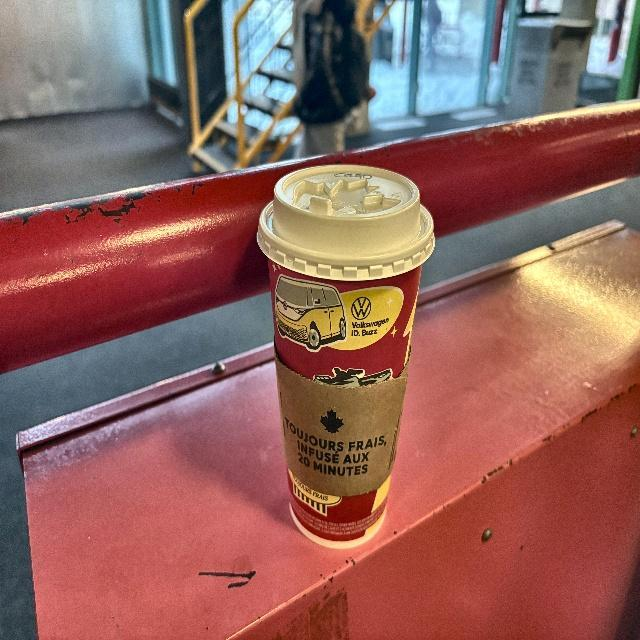timmies: (254, 157, 439, 550)
